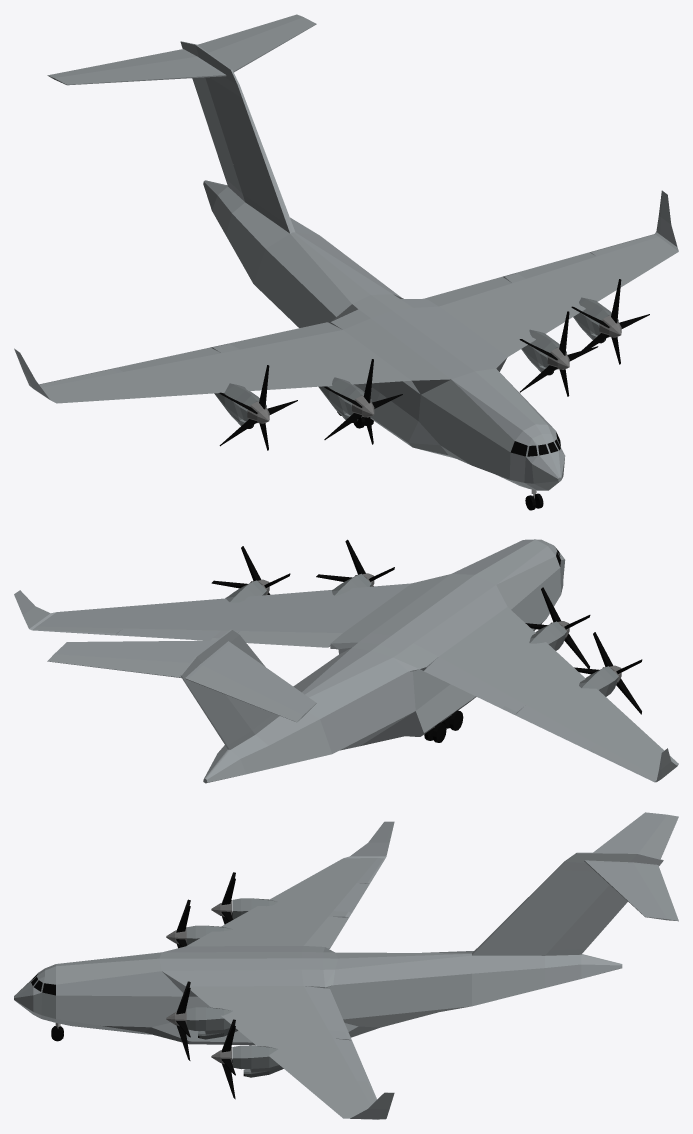
3 renders of one model, top to bottom at view 1: azimuth 30°, elevation 25°; view 2: azimuth 150°, elevation 25°; view 3: azimuth 270°, elevation 25°, orthographic. The views are drawn at different scales.
Parts seen in each view (by area): view 1: Body.004, Rudder.004, propeller 2.019, propeller 2.016, propeller 2.018, propeller 2.017, R_Flap2.004, R_elevator.004, L_Elevator.004, L_Flap2.004, R_Flap1.004; view 2: Body.004, Rudder.004, R_elevator.004, L_Elevator.004, R_Flap2.004, L_Flap2.004, R_Flap1.004, L_Flap1.004, propeller 2.019, propeller 2.018, Landing gear_RR.004, propeller 2.017 (+3 smaller); view 3: Body.004, Rudder.004, L_Flap2.004, L_Elevator.004, R_elevator.004, R_Flap2.004, L_Flap1.004, propeller 2.016, propeller 2.017, R_Flap1.004, propeller 2.019, propeller 2.018.
Part boxes in pixels (x1,y1,x2,y2): Body.004: [14, 17, 678, 490]; Rudder.004: [192, 77, 241, 192]; propeller 2.019: [219, 365, 297, 450]; propeller 2.016: [519, 311, 598, 396]; propeller 2.018: [324, 359, 402, 444]; propeller 2.017: [571, 279, 649, 364]; R_Flap2.004: [227, 322, 342, 349]; R_elevator.004: [47, 49, 193, 78]; L_Elevator.004: [197, 14, 303, 52]; L_Flap2.004: [425, 276, 511, 306]; R_Flap1.004: [116, 347, 220, 371]; Body.004: [14, 539, 678, 783]; Rudder.004: [186, 681, 251, 745]; R_elevator.004: [188, 665, 303, 722]; L_Elevator.004: [47, 654, 189, 677]; R_Flap2.004: [424, 657, 511, 708]; L_Flap2.004: [237, 631, 342, 647]; R_Flap1.004: [515, 705, 595, 750]; L_Flap1.004: [115, 628, 220, 640]; propeller 2.019: [574, 632, 642, 714]; propeller 2.018: [525, 587, 590, 668]; Landing gear_RR.004: [424, 710, 463, 742]; propeller 2.017: [211, 546, 290, 594]; Body.004: [14, 812, 667, 1119]; Rudder.004: [550, 885, 627, 950]; L_Flap2.004: [304, 986, 348, 1032]; L_Elevator.004: [634, 863, 678, 921]; R_elevator.004: [638, 814, 678, 859]; R_Flap2.004: [304, 916, 348, 948]; L_Flap1.004: [333, 1038, 369, 1082]; propeller 2.016: [166, 981, 190, 1060]; propeller 2.017: [211, 1019, 235, 1099]; R_Flap1.004: [333, 883, 369, 912]; propeller 2.019: [211, 872, 235, 924]; propeller 2.018: [166, 899, 190, 948].
Size of the model in its own units: 4342 by 1391 by 4498.
